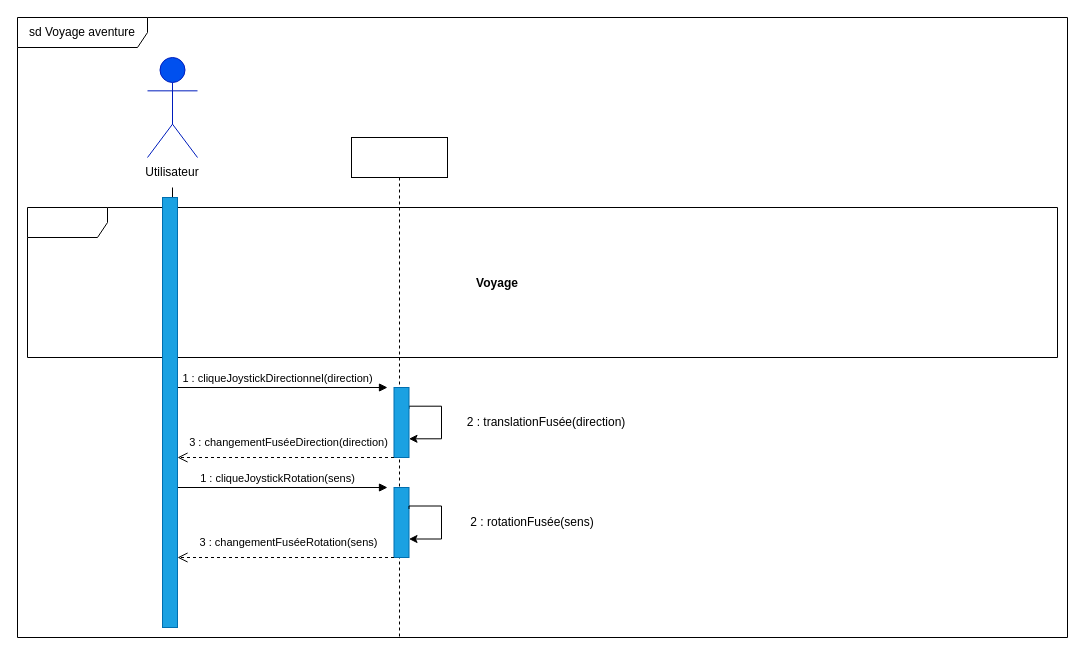
Image size: 1085x655. Some labels were removed from this diagram. The shapes that lost their labels are listed below. From the top down, each one's box as (x1, y1, x2, y2) in pixels, then its label:
(26, 206, 1058, 358): ref
(350, 136, 448, 638): :Système
